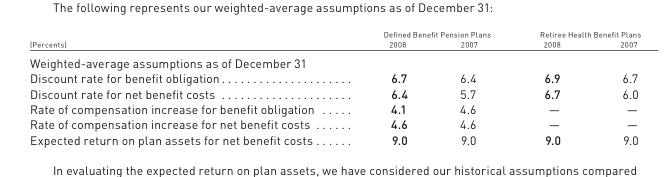table: (28, 28, 640, 146)
table column: (28, 28, 348, 146), (348, 28, 433, 146), (433, 28, 514, 146), (514, 28, 589, 146), (589, 28, 640, 146)
table column header: (28, 28, 640, 51)
table projected row header: (28, 51, 640, 69)
table row: (28, 51, 640, 69), (28, 69, 640, 85), (28, 115, 640, 131), (28, 85, 640, 100), (28, 100, 640, 115), (28, 131, 640, 146), (28, 38, 640, 51), (28, 28, 640, 38)
table spanning cell: (28, 28, 348, 51), (348, 28, 514, 38), (514, 28, 640, 38)
